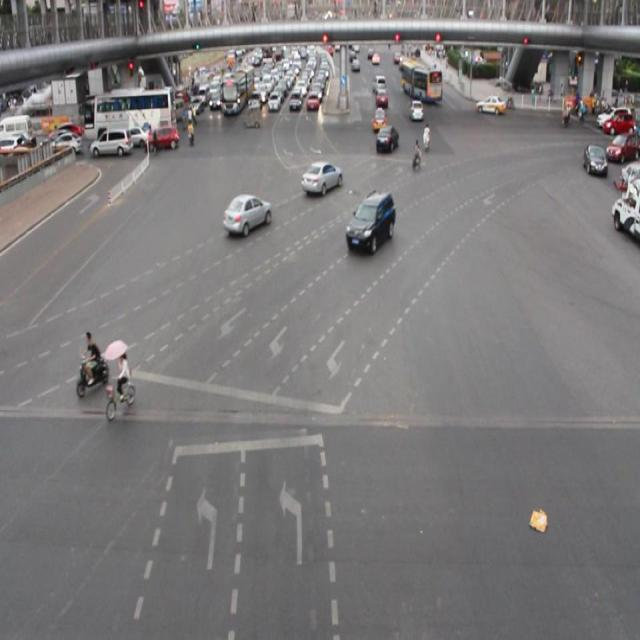car: (344, 190, 396, 256), (220, 190, 273, 237), (299, 160, 343, 198), (372, 123, 398, 154)
